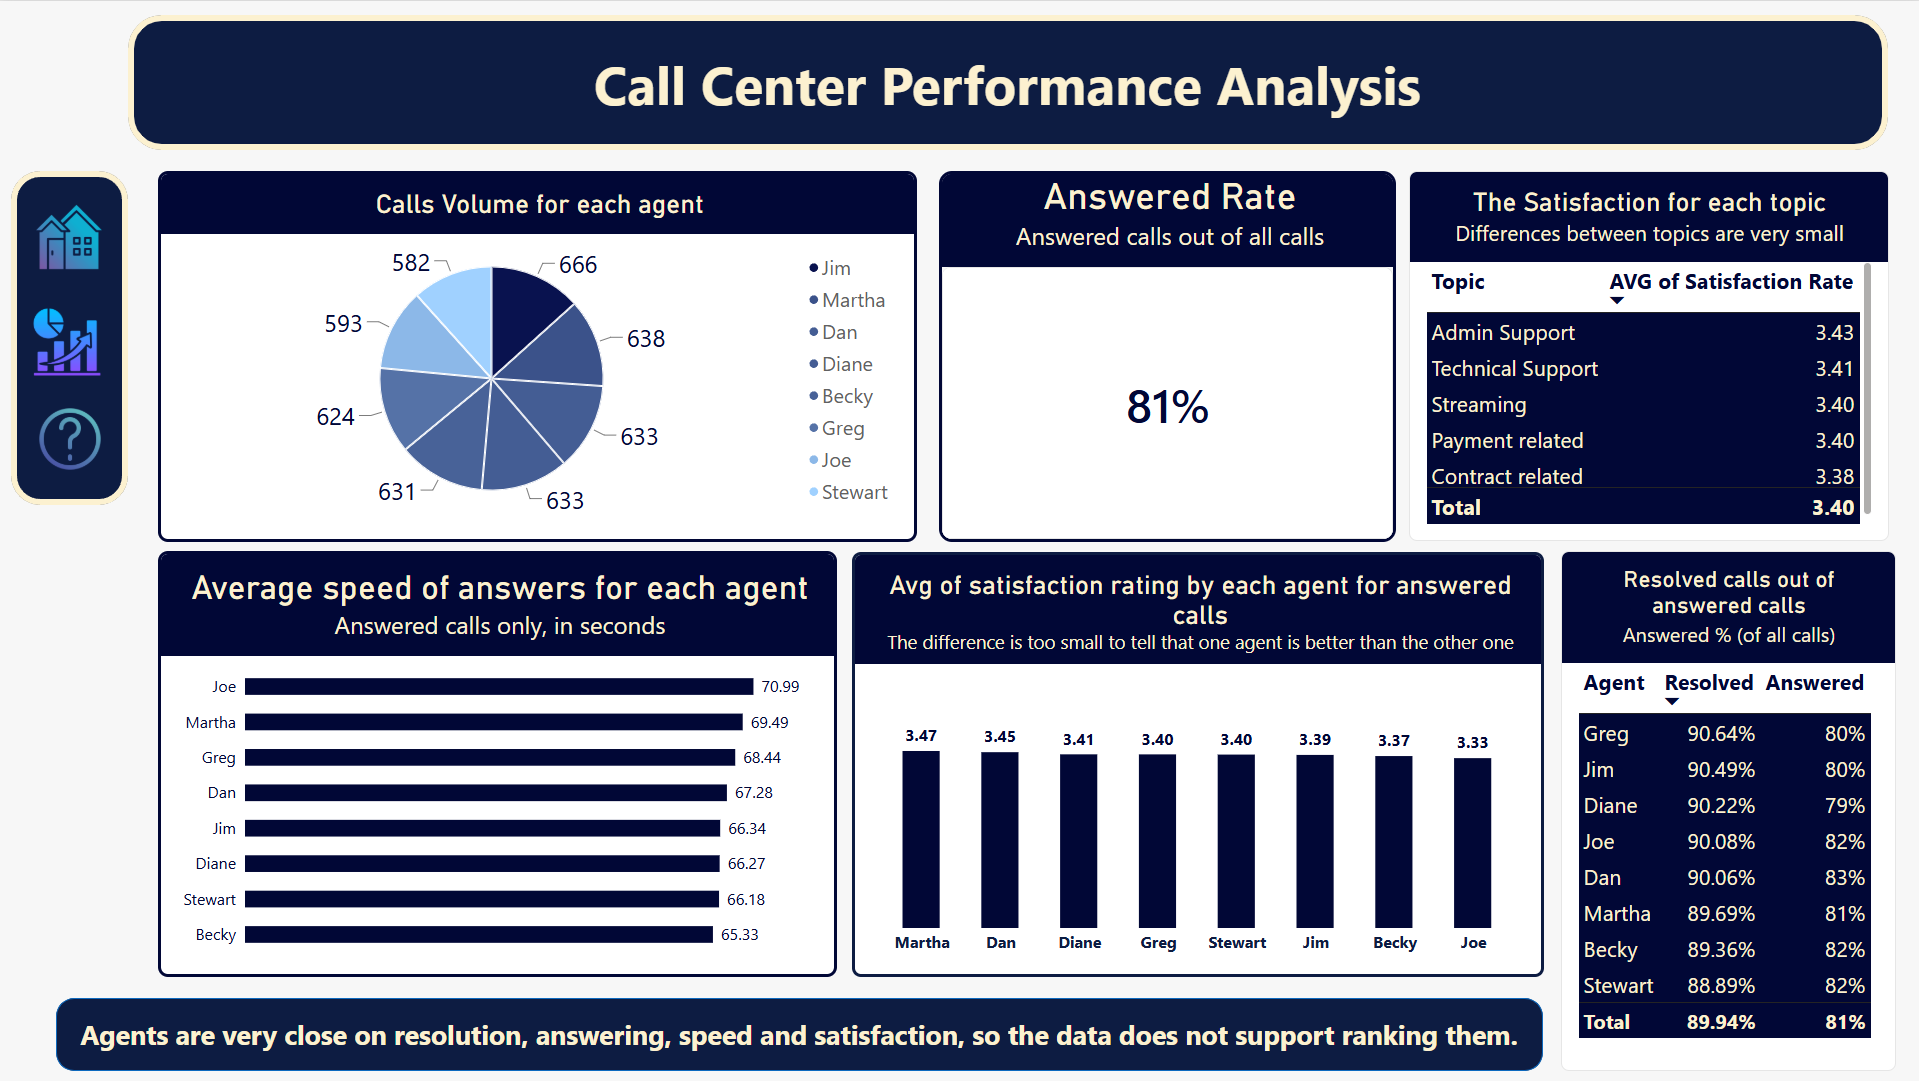

Layout of this report page (visuals, bound fields, positions):
{"tool":"powerbi","page":{"name":"Analysis","canvas":[1920,1080],"ordinal":2},"visuals":[{"type":"cardVisual","title":"Answered Rate","fields":{"Data":["Sheet1.Answered Rate"]},"box":[939.5,169.6,456.7,371],"z":0},{"type":"shape","box":[127.5,13.8,1760.7,135.7],"z":1000},{"type":"shape","box":[11,170,117,334],"z":2000},{"type":"actionButton","box":[27.3,197.5,85.1,74.2],"z":3000},{"type":"actionButton","box":[25.4,302,85.1,74.2],"z":4000},{"type":"actionButton","box":[27.6,398.7,85.1,74.2],"z":5000},{"type":"pieChart","title":"Calls Volume for each agent","fields":{"Category":["Sheet1.Agent"],"Y":["CountNonNull(Sheet1.Call Id)"]},"box":[158.4,169.6,758.7,371],"z":6000},{"type":"clusteredColumnChart","title":"Avg of satisfaction rating by each agent for answered calls","fields":{"Category":["Sheet1.Agent"],"Y":["Sheet1.Avg statisfaction rate"]},"box":[852,551,692,425],"z":7000},{"type":"tableEx","title":"The Satisfaction for each topic","fields":{"Values":["Sheet1.Topic","Avg(Sheet1.Satisfaction rating)"]},"box":[1409,170,480,370],"z":8000},{"type":"clusteredBarChart","title":"Average speed of answers for each agent","fields":{"Category":["Sheet1.Agent"],"Y":["Sheet1.Average Speed of Answer"]},"box":[158,550,679,426],"z":9000},{"type":"tableEx","title":"Resolved calls out of answered calls","fields":{"Values":["Sheet1.Agent","Sheet1.Resolution Rate for agents","Sheet1.Answered Rate"]},"box":[1561.4,550,334.3,520],"z":10000},{"type":"shape","box":[55.7,997.1,1487.1,72.9],"z":11000}]}

Visuals, with their boxes in screenshot pixels (x1, y1, x2, y2), scaled from the page's 1920x1080 canvas onto the 1919x1081 screenshot:
"Answered Rate" cardVisual: locate(939, 170, 1395, 541)
shape: locate(127, 14, 1887, 150)
shape: locate(11, 170, 128, 504)
actionButton: locate(27, 198, 112, 272)
actionButton: locate(25, 302, 110, 377)
actionButton: locate(28, 399, 113, 473)
"Calls Volume for each agent" pieChart: locate(158, 170, 917, 541)
"Avg of satisfaction rating by each agent for answered calls" clusteredColumnChart: locate(852, 552, 1543, 977)
"The Satisfaction for each topic" tableEx: locate(1408, 170, 1888, 540)
"Average speed of answers for each agent" clusteredBarChart: locate(158, 551, 837, 977)
"Resolved calls out of answered calls" tableEx: locate(1561, 551, 1895, 1071)
shape: locate(56, 998, 1542, 1071)
